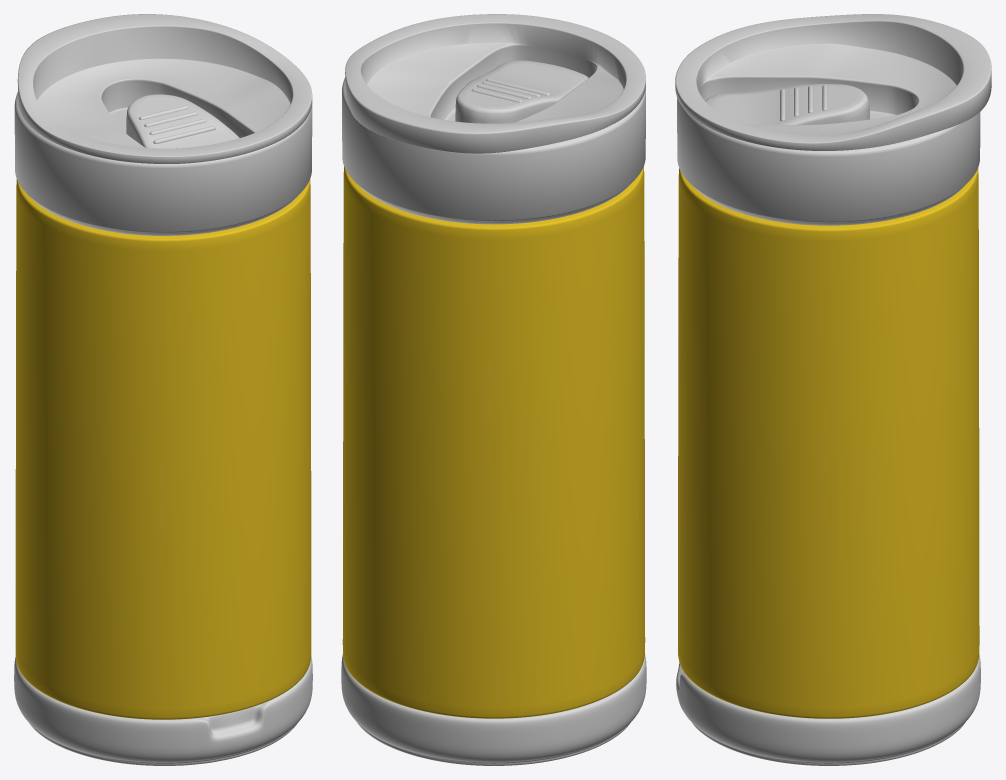
Rendered from cup.glb.
The picture shows the model from 3 angles, left to right: view 1: azimuth 30°, elevation 25°; view 2: azimuth 150°, elevation 25°; view 3: azimuth 270°, elevation 25°; orthographic projection. The views are drawn at different scales.
Visible parts, largest first — view 1: Middle_Colored_Part, Top_Part; view 2: Middle_Colored_Part, Top_Part; view 3: Middle_Colored_Part, Top_Part.
Boxes of the visible parts, <box> form: Middle_Colored_Part: <box>15,179,311,719</box>; Top_Part: <box>14,14,312,765</box>; Middle_Colored_Part: <box>342,166,645,718</box>; Top_Part: <box>341,14,646,765</box>; Middle_Colored_Part: <box>678,168,979,718</box>; Top_Part: <box>675,14,991,765</box>.
Size of the model in its own units: 8.06 by 18.72 by 8.38.
